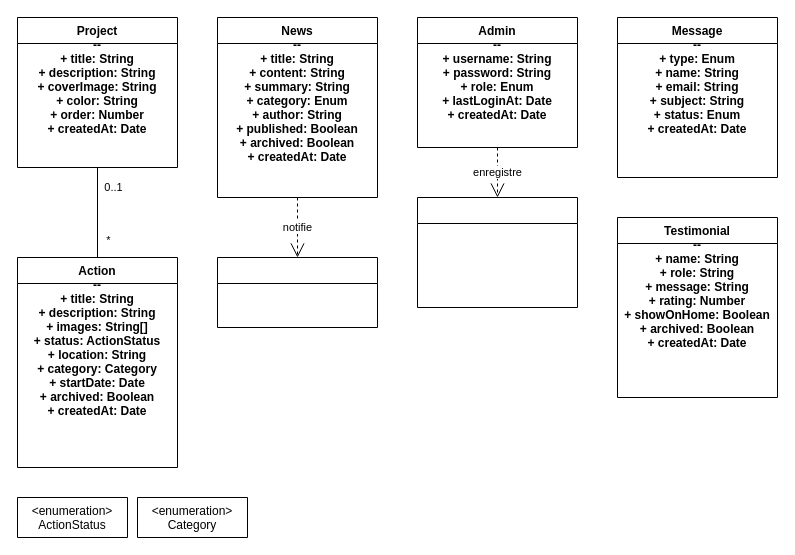
Image size: 795x555. Some labels were removed from this diagram. Each missing label, with the centre of its shape:
"Subscriber -- + email: String + createdAt: Date" belongs at [297,292].
"Traffic -- + date: String + visits: Number + logins: Number + createdAt: Date" belongs at [497,252].
